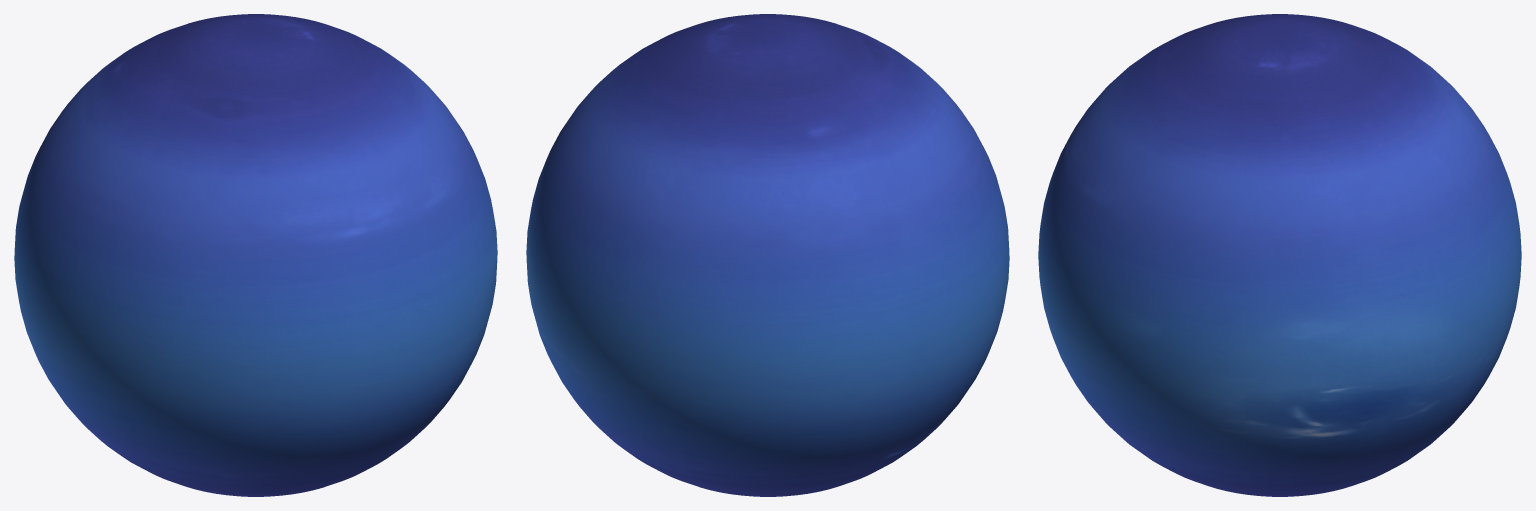
Rendered from centered_Neptune.glb.
3 views of the same model, side by side, from view 1: azimuth 30°, elevation 25°; view 2: azimuth 150°, elevation 25°; view 3: azimuth 270°, elevation 25° (orthographic).
Visible parts, largest first — view 1: Neptune; view 2: Neptune; view 3: Neptune.
Boxes of the visible parts, left/top/right/bottom form: Neptune: left=14, top=14, right=497, bottom=496; Neptune: left=526, top=14, right=1009, bottom=496; Neptune: left=1038, top=14, right=1521, bottom=496.
Bounding box in the file's own units: 13.97 × 13.97 × 13.97.
1 material, 1 textured.
